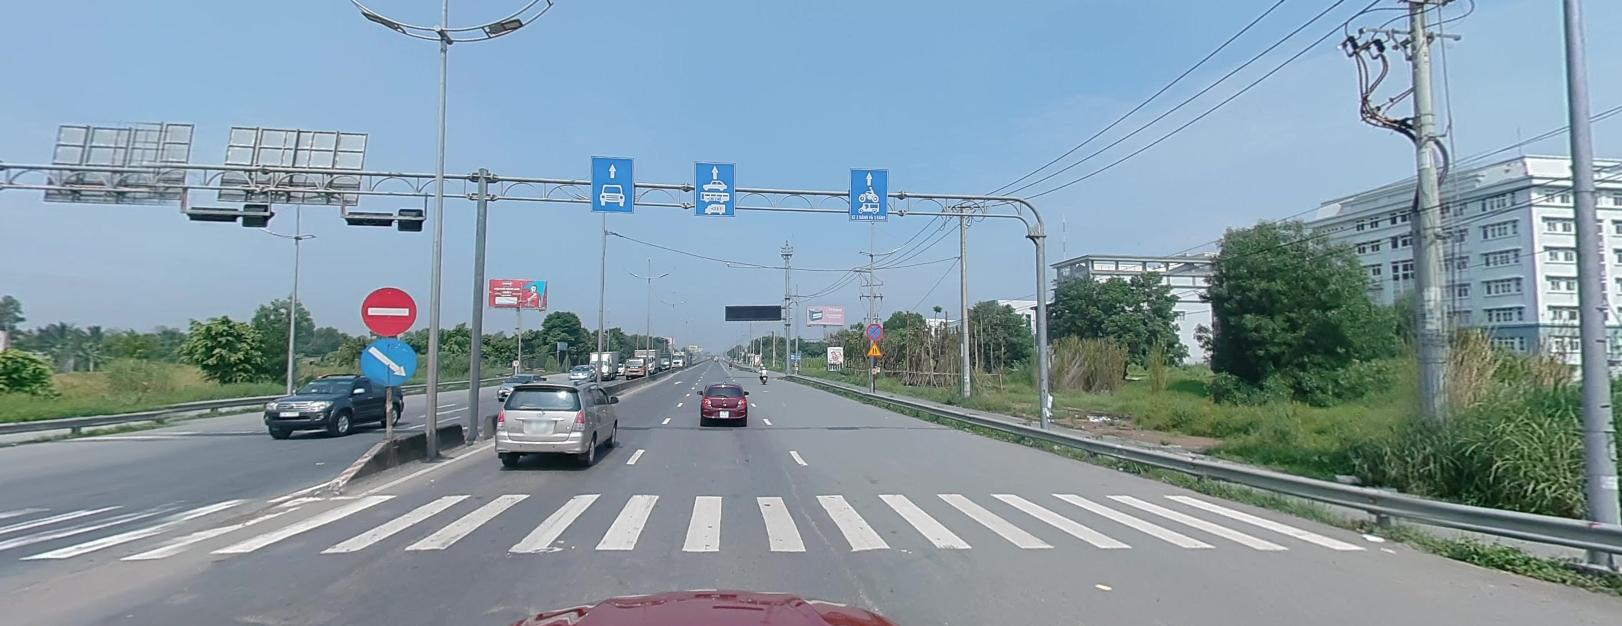Cam dung va do: (866, 321, 882, 338)
Cam nguoc chieu: (358, 284, 418, 334)
Hieu lenh: (358, 330, 419, 384)
Nguy hiem: (865, 339, 882, 354)
